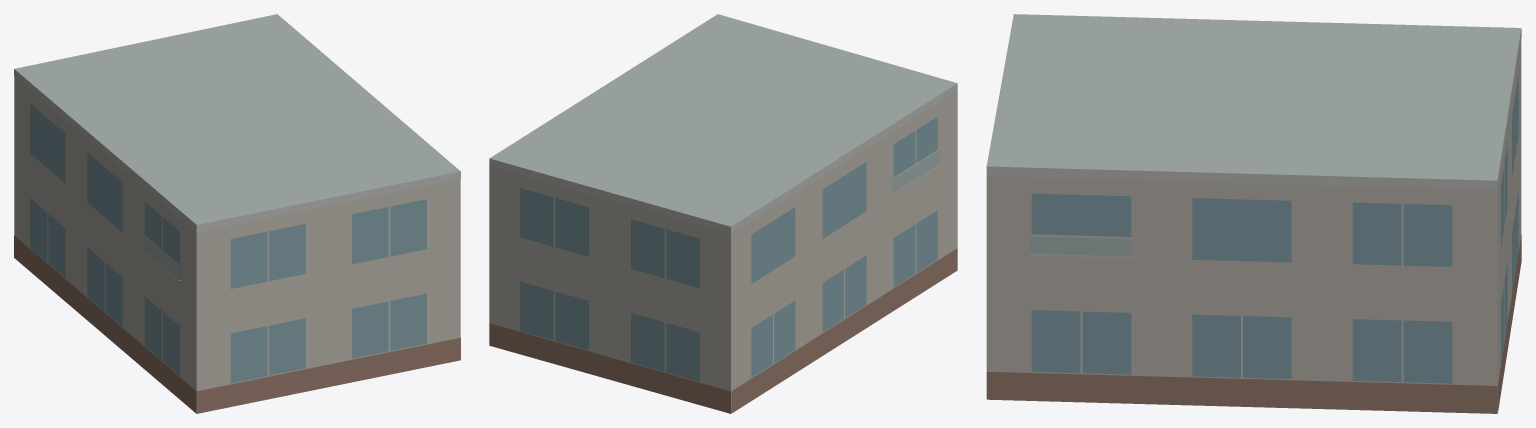
The model's file is survey-upis-32803810.glb.
The picture shows the model from 3 angles, left to right: view 1: azimuth 30°, elevation 25°; view 2: azimuth 150°, elevation 25°; view 3: azimuth 270°, elevation 25°; orthographic projection. The views are drawn at different scales.
Visible parts, largest first — view 1: survey-upis-32803810.tmp; view 2: survey-upis-32803810.tmp; view 3: survey-upis-32803810.tmp.
Boxes of the visible parts, x1,y1,x2,y2 form: survey-upis-32803810.tmp: [14, 14, 460, 413]; survey-upis-32803810.tmp: [489, 14, 957, 413]; survey-upis-32803810.tmp: [986, 14, 1521, 413].
Bounding box in the file's own units: 9.36 × 6.1 × 12.69.
